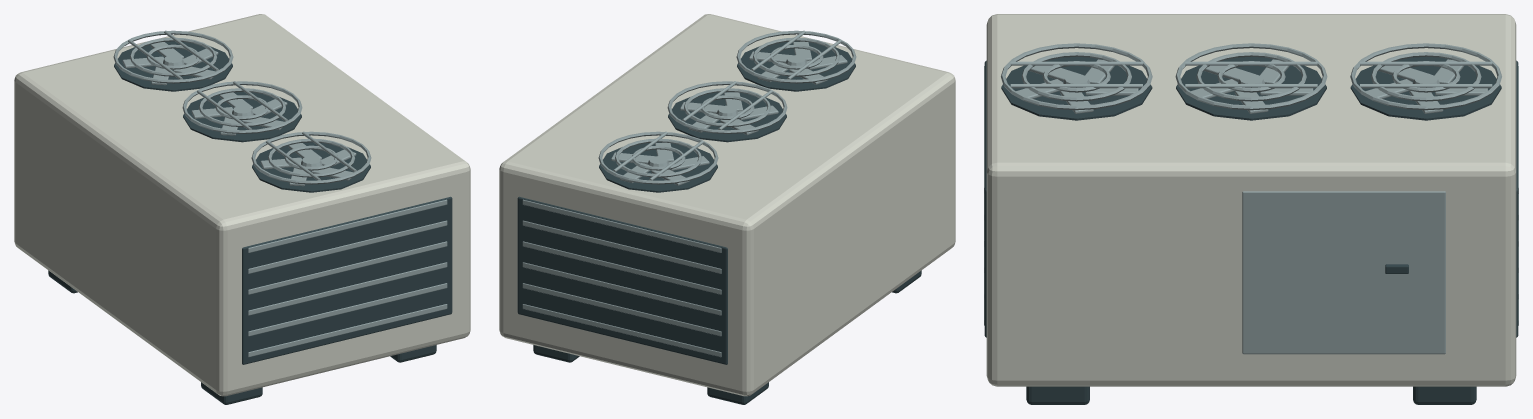
File: roof-unit.glb
3 views of the same model, side by side, from view 1: azimuth 30°, elevation 25°; view 2: azimuth 150°, elevation 25°; view 3: azimuth 270°, elevation 25° (orthographic). The views are drawn at different scales.
Visible parts, largest first — view 1: equipment-housing, vent-recess, fan-well-0, fan-well-2, fan-well-1, vent-louvre.005, vent-louvre.001, vent-louvre, vent-louvre.002, vent-louvre.004, vent-louvre.003, fan-guard-1-0.278 (+9 smaller); view 2: equipment-housing, vent-recess.001, fan-well-2, fan-well-1, fan-well-0, vent-louvre.011, vent-louvre.007, vent-louvre.006, vent-louvre.008, vent-louvre.010, vent-louvre.009, fan-guard-1-0.278 (+9 smaller); view 3: equipment-housing, service-panel, fan-well-1, fan-well-0, fan-well-2, fan-guard-1-0.278, fan-guard-0-0.278, fan-guard-2-0.278, isolator-0.48-0.73, isolator-0.48--0.73, fan-guard-1-0.2, fan-guard-0-0.2 (+12 smaller).
Boxes of the visible parts, x1,y1,x2,y2 form: equipment-housing: [14, 14, 470, 396]; vent-recess: [242, 196, 452, 364]; fan-well-0: [252, 142, 370, 192]; fan-well-2: [114, 41, 232, 91]; fan-well-1: [183, 92, 301, 142]; vent-louvre.005: [248, 199, 447, 252]; vent-louvre.001: [248, 283, 447, 336]; vent-louvre: [248, 304, 447, 357]; vent-louvre.002: [248, 262, 447, 315]; vent-louvre.004: [248, 220, 447, 273]; vent-louvre.003: [248, 241, 447, 294]; fan-guard-1-0.278: [182, 81, 302, 133]; equipment-housing: [499, 14, 955, 396]; vent-recess.001: [517, 196, 727, 364]; fan-well-2: [599, 142, 717, 192]; fan-well-1: [668, 92, 786, 142]; fan-well-0: [737, 41, 855, 91]; vent-louvre.011: [522, 199, 721, 252]; vent-louvre.007: [522, 283, 721, 336]; vent-louvre.006: [522, 304, 721, 357]; vent-louvre.008: [522, 262, 721, 315]; vent-louvre.010: [522, 220, 721, 273]; vent-louvre.009: [522, 241, 721, 294]; fan-guard-1-0.278: [667, 81, 787, 133]; equipment-housing: [986, 14, 1516, 386]; service-panel: [1242, 191, 1445, 354]; fan-well-1: [1176, 56, 1326, 120]; fan-well-0: [1001, 56, 1152, 120]; fan-well-2: [1350, 56, 1501, 120]; fan-guard-1-0.278: [1175, 43, 1327, 110]; fan-guard-0-0.278: [1001, 43, 1152, 110]; fan-guard-2-0.278: [1350, 43, 1501, 110]; isolator-0.48-0.73: [1413, 386, 1476, 404]; isolator-0.48--0.73: [1026, 386, 1089, 404]; fan-guard-1-0.2: [1196, 52, 1306, 101]; fan-guard-0-0.2: [1021, 52, 1131, 101].
Size of the model in its own units: 1.42 by 1.12 by 2.02.
